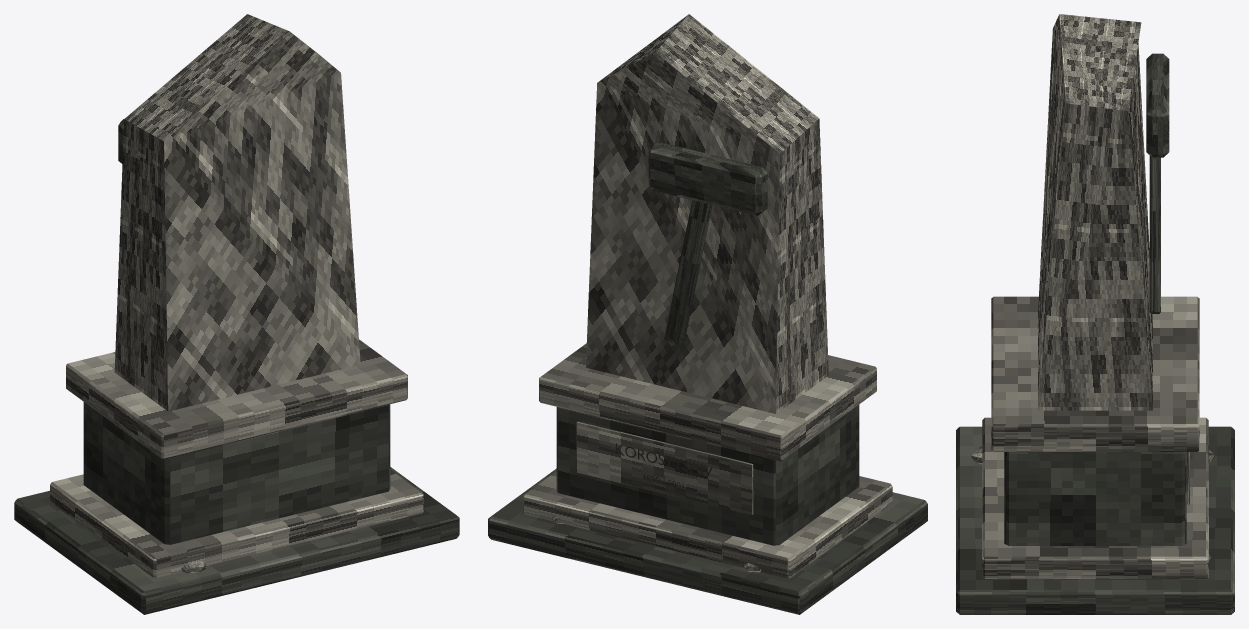
The model's file is stone_monument.glb.
3 renders of one model, left to right at view 1: azimuth 30°, elevation 25°; view 2: azimuth 150°, elevation 25°; view 3: azimuth 270°, elevation 25°, orthographic. The views are drawn at different scales.
Visible parts, largest first — view 1: Monument_Mesh; view 2: Monument_Mesh; view 3: Monument_Mesh.
Boxes of the visible parts, bbox=[...] form: Monument_Mesh: bbox=[14, 14, 459, 614]; Monument_Mesh: bbox=[488, 14, 927, 614]; Monument_Mesh: bbox=[956, 14, 1234, 614].
Bounding box in the file's own units: 2.4 × 3.62 × 1.7.
Materials: 2 (2 with a texture image).
